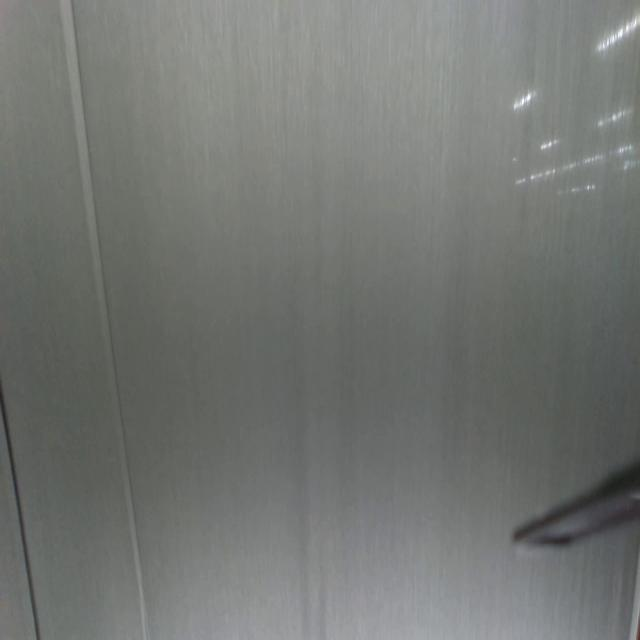crease: (59, 2, 148, 640), (0, 376, 42, 640)
